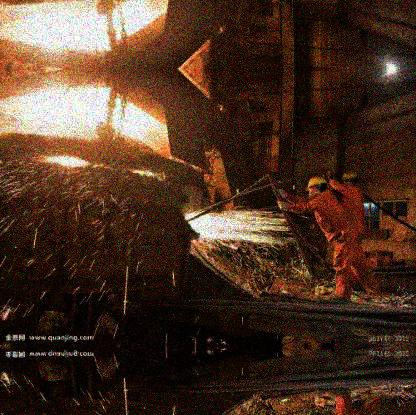helmet: (306, 176, 328, 197), (342, 170, 360, 184)
